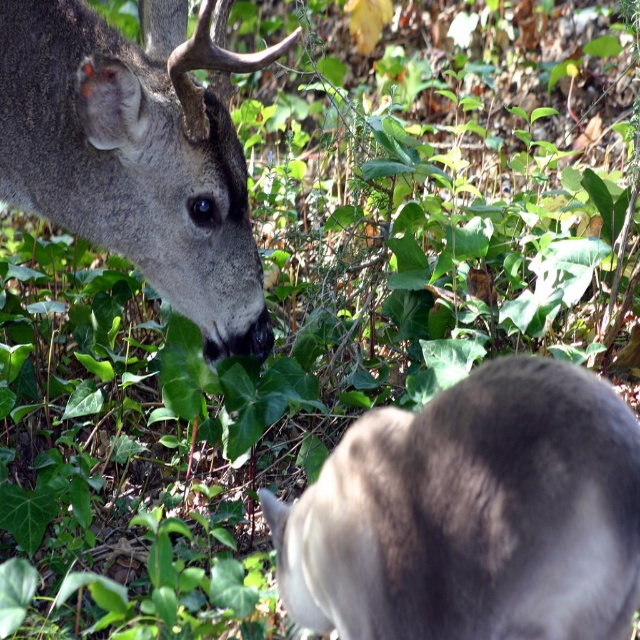Deer: (0, 0, 302, 368)
